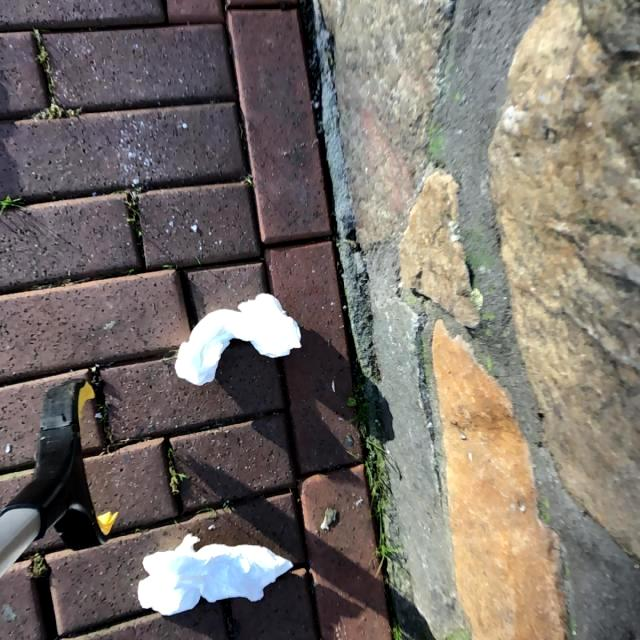Paper: (137, 534, 295, 616), (173, 292, 303, 386)
